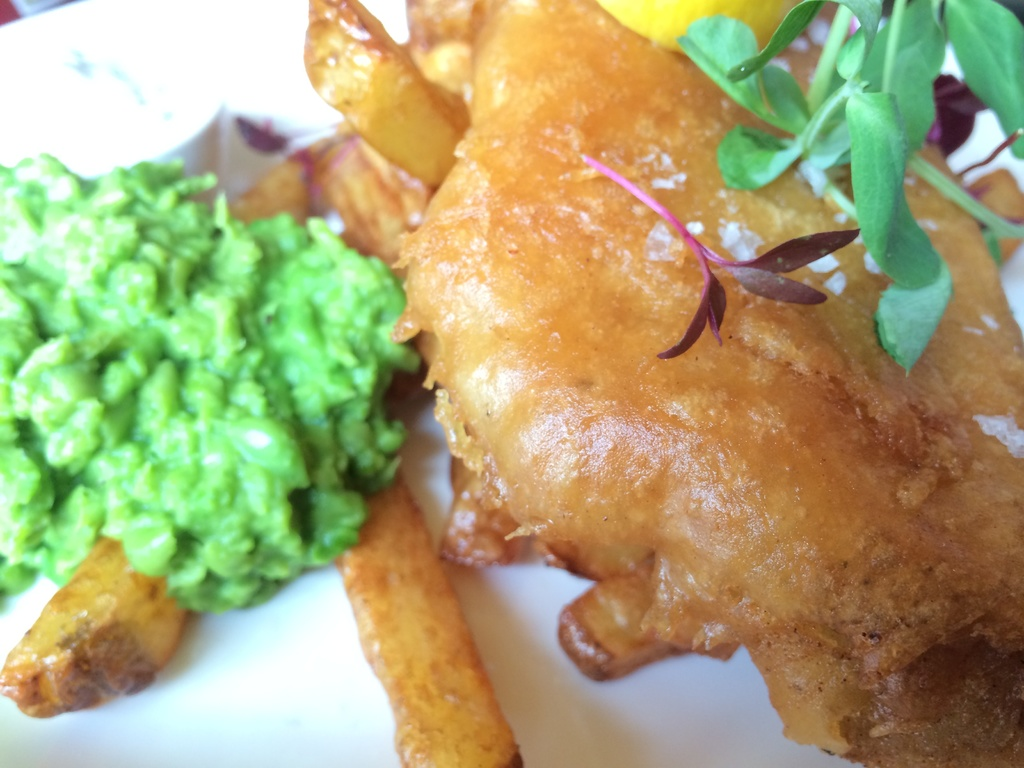French fries: (0, 0, 524, 767), (302, 130, 422, 231)
